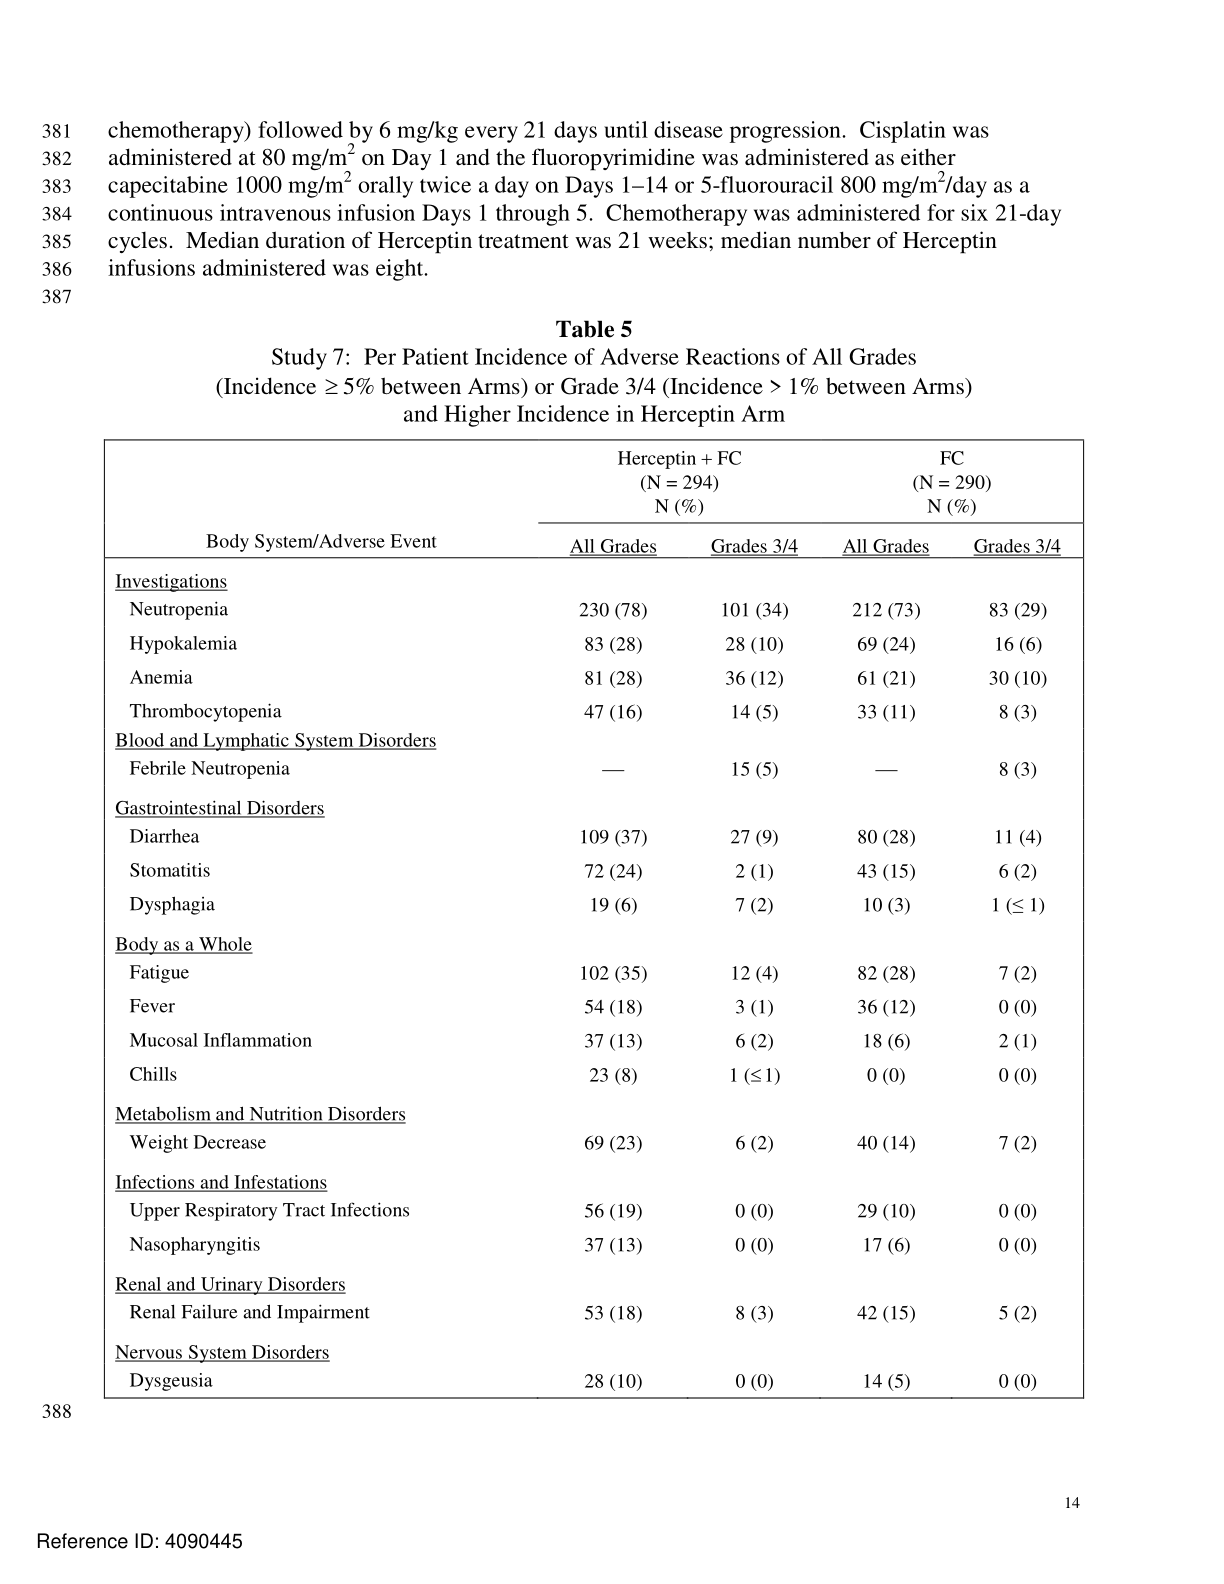partial_lined_merged_cells: (102, 436, 1084, 1403)
